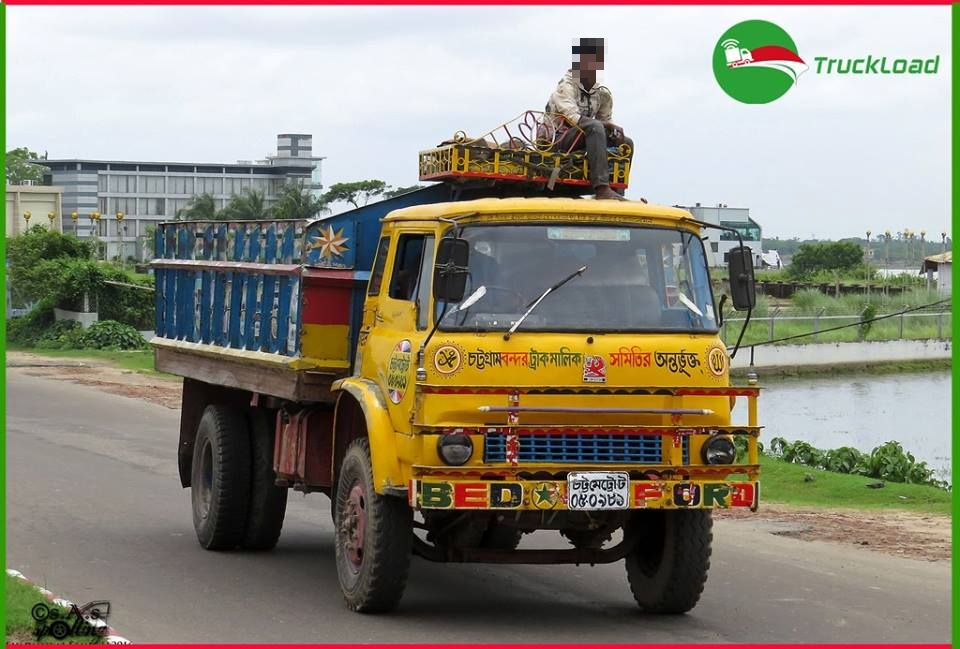truck: (144, 122, 787, 608)
